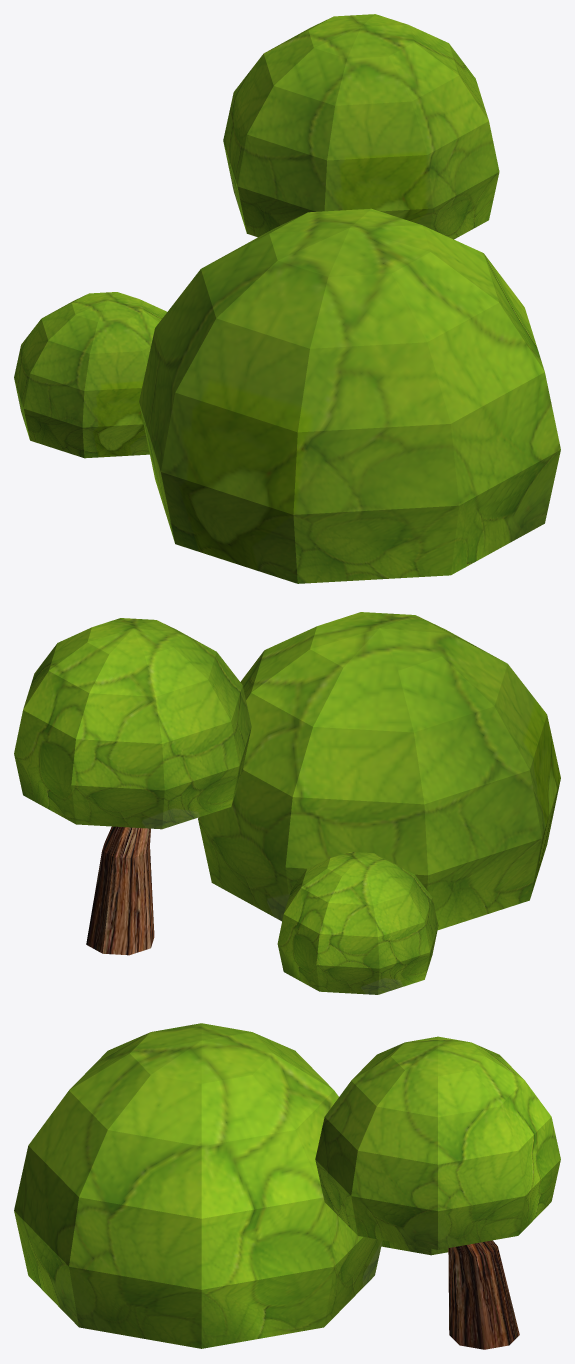
File: arbustos.glb
The picture shows the model from 3 angles, top to bottom: view 1: azimuth 30°, elevation 25°; view 2: azimuth 150°, elevation 25°; view 3: azimuth 270°, elevation 25°; orthographic projection. The views are drawn at different scales.
Visible parts, largest first — view 1: Object_2; view 2: Object_2; view 3: Object_2.
Boxes of the visible parts, <box> form: Object_2: <box>14,14,560,583</box>; Object_2: <box>14,612,560,994</box>; Object_2: <box>14,1023,560,1349</box>.
Bounding box in the file's own units: 3.76 × 2.62 × 4.45.
1 material, 1 textured.
